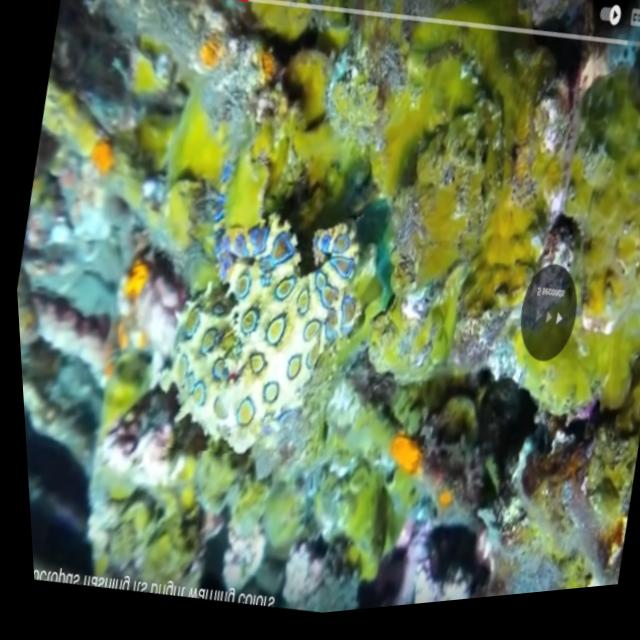blue_ringed_octopus: (137, 187, 376, 484)
